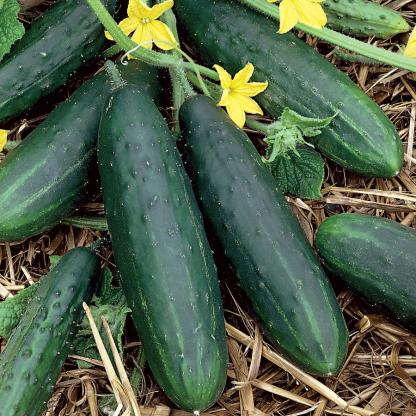--: (79, 56, 230, 399), (173, 89, 339, 360), (161, 0, 406, 183)
